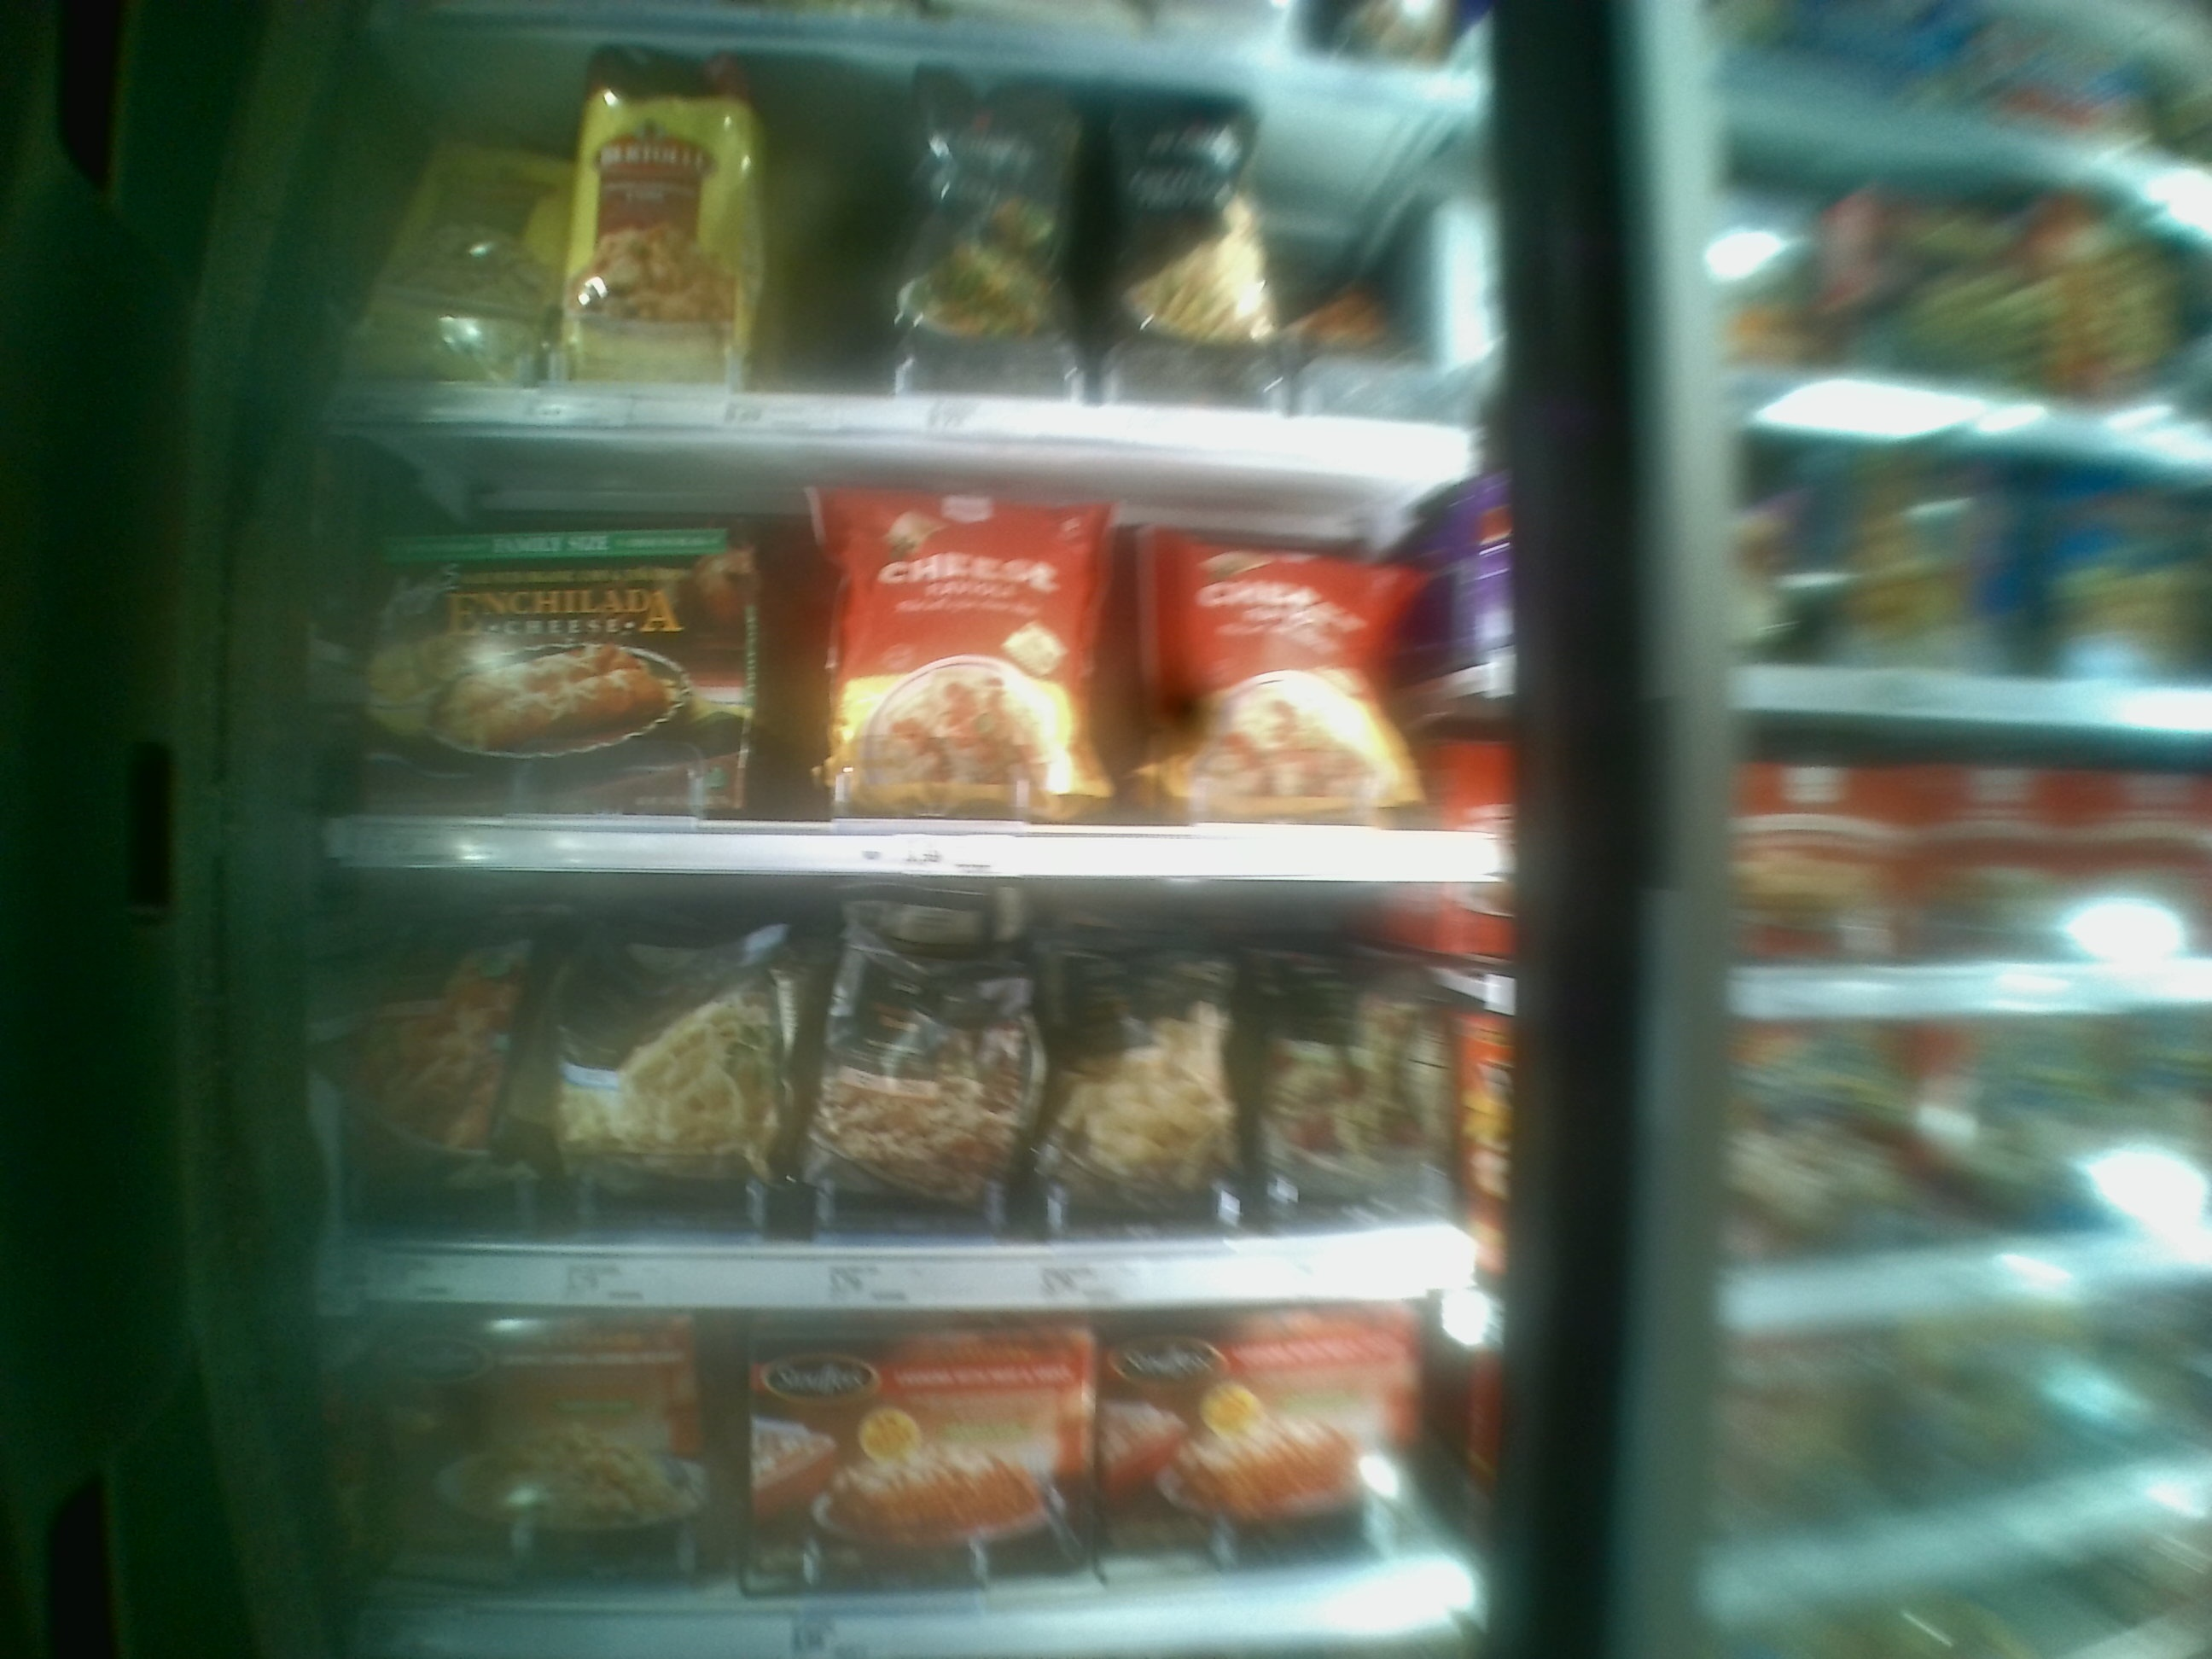frozen-food-shelf: (343, 887, 1461, 1302)
